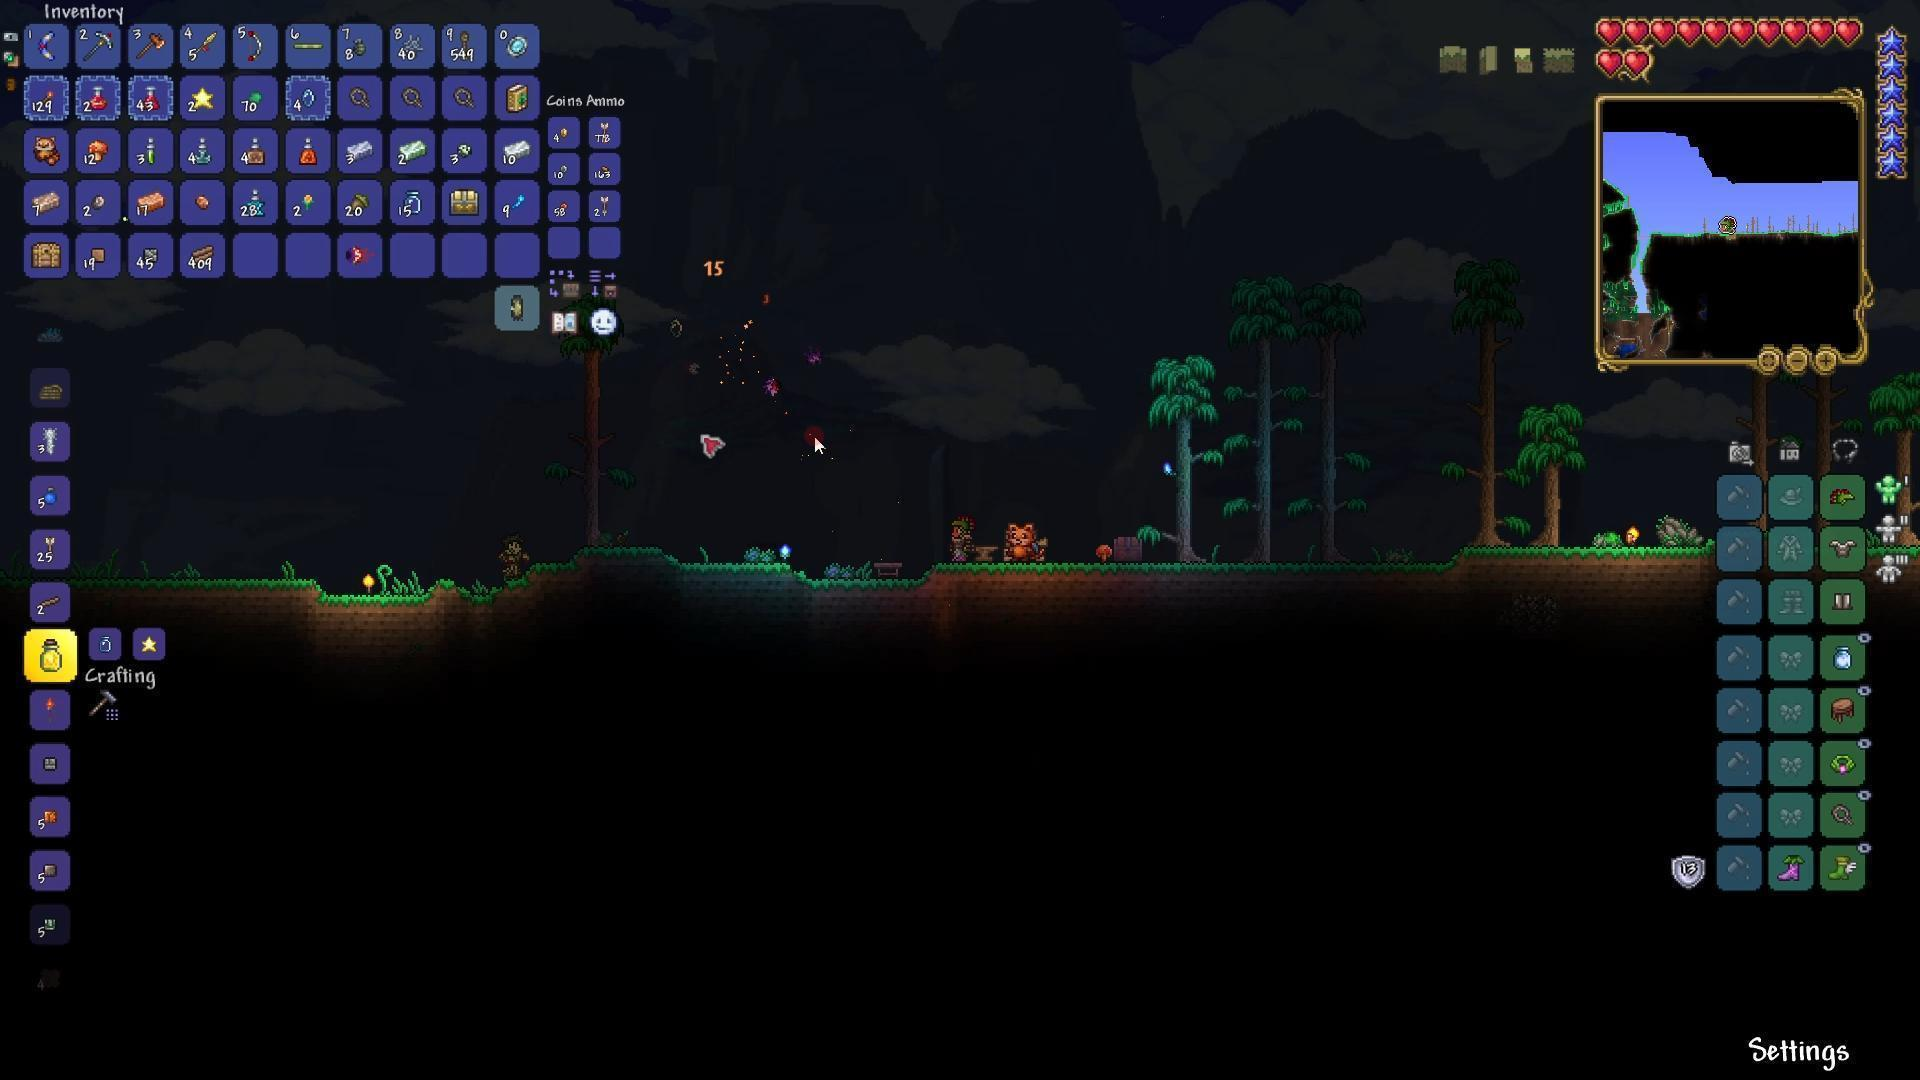anvil: (968, 538, 1000, 563)
arrow: (44, 535, 55, 567)
breastplate: (1829, 538, 1858, 559)
chest: (1110, 534, 1149, 564)
cobwebI: (401, 33, 425, 58)
eye: (344, 243, 378, 265)
legs: (1829, 591, 1857, 613)
lens: (659, 305, 694, 355), (299, 87, 316, 108)
wood: (191, 241, 216, 264)
